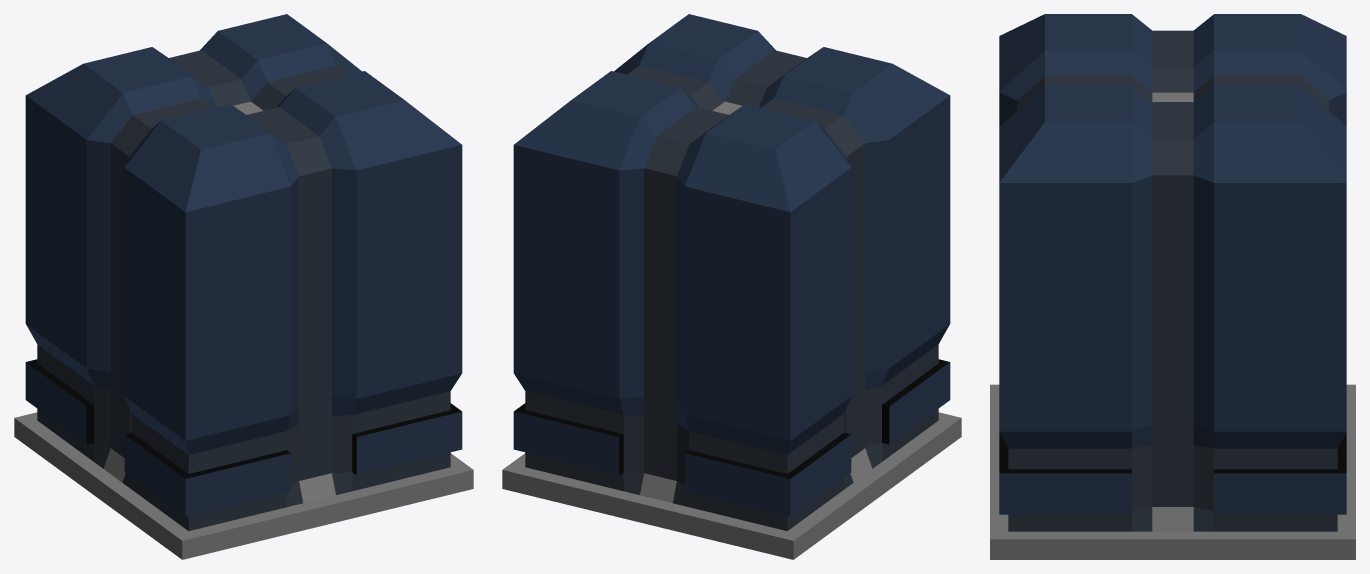
The picture shows the model from 3 angles, left to right: view 1: azimuth 30°, elevation 25°; view 2: azimuth 150°, elevation 25°; view 3: azimuth 270°, elevation 25°; orthographic projection. The views are drawn at different scales.
Parts seen in each view (by area): view 1: Node2; view 2: Node2; view 3: Node2.
Part boxes in pixels (x1=…): Node2: x1=14, y1=14, x2=473, y2=559; Node2: x1=502, y1=14, x2=961, y2=559; Node2: x1=990, y1=14, x2=1355, y2=559.
Bounding box in the file's own units: 200 × 250 × 200.
